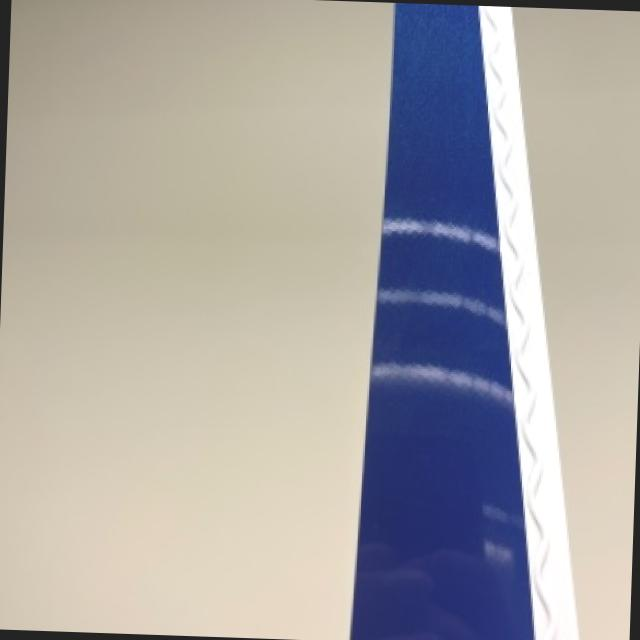healthy: (352, 2, 575, 640)
